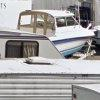Boat: (5, 5, 94, 59)
